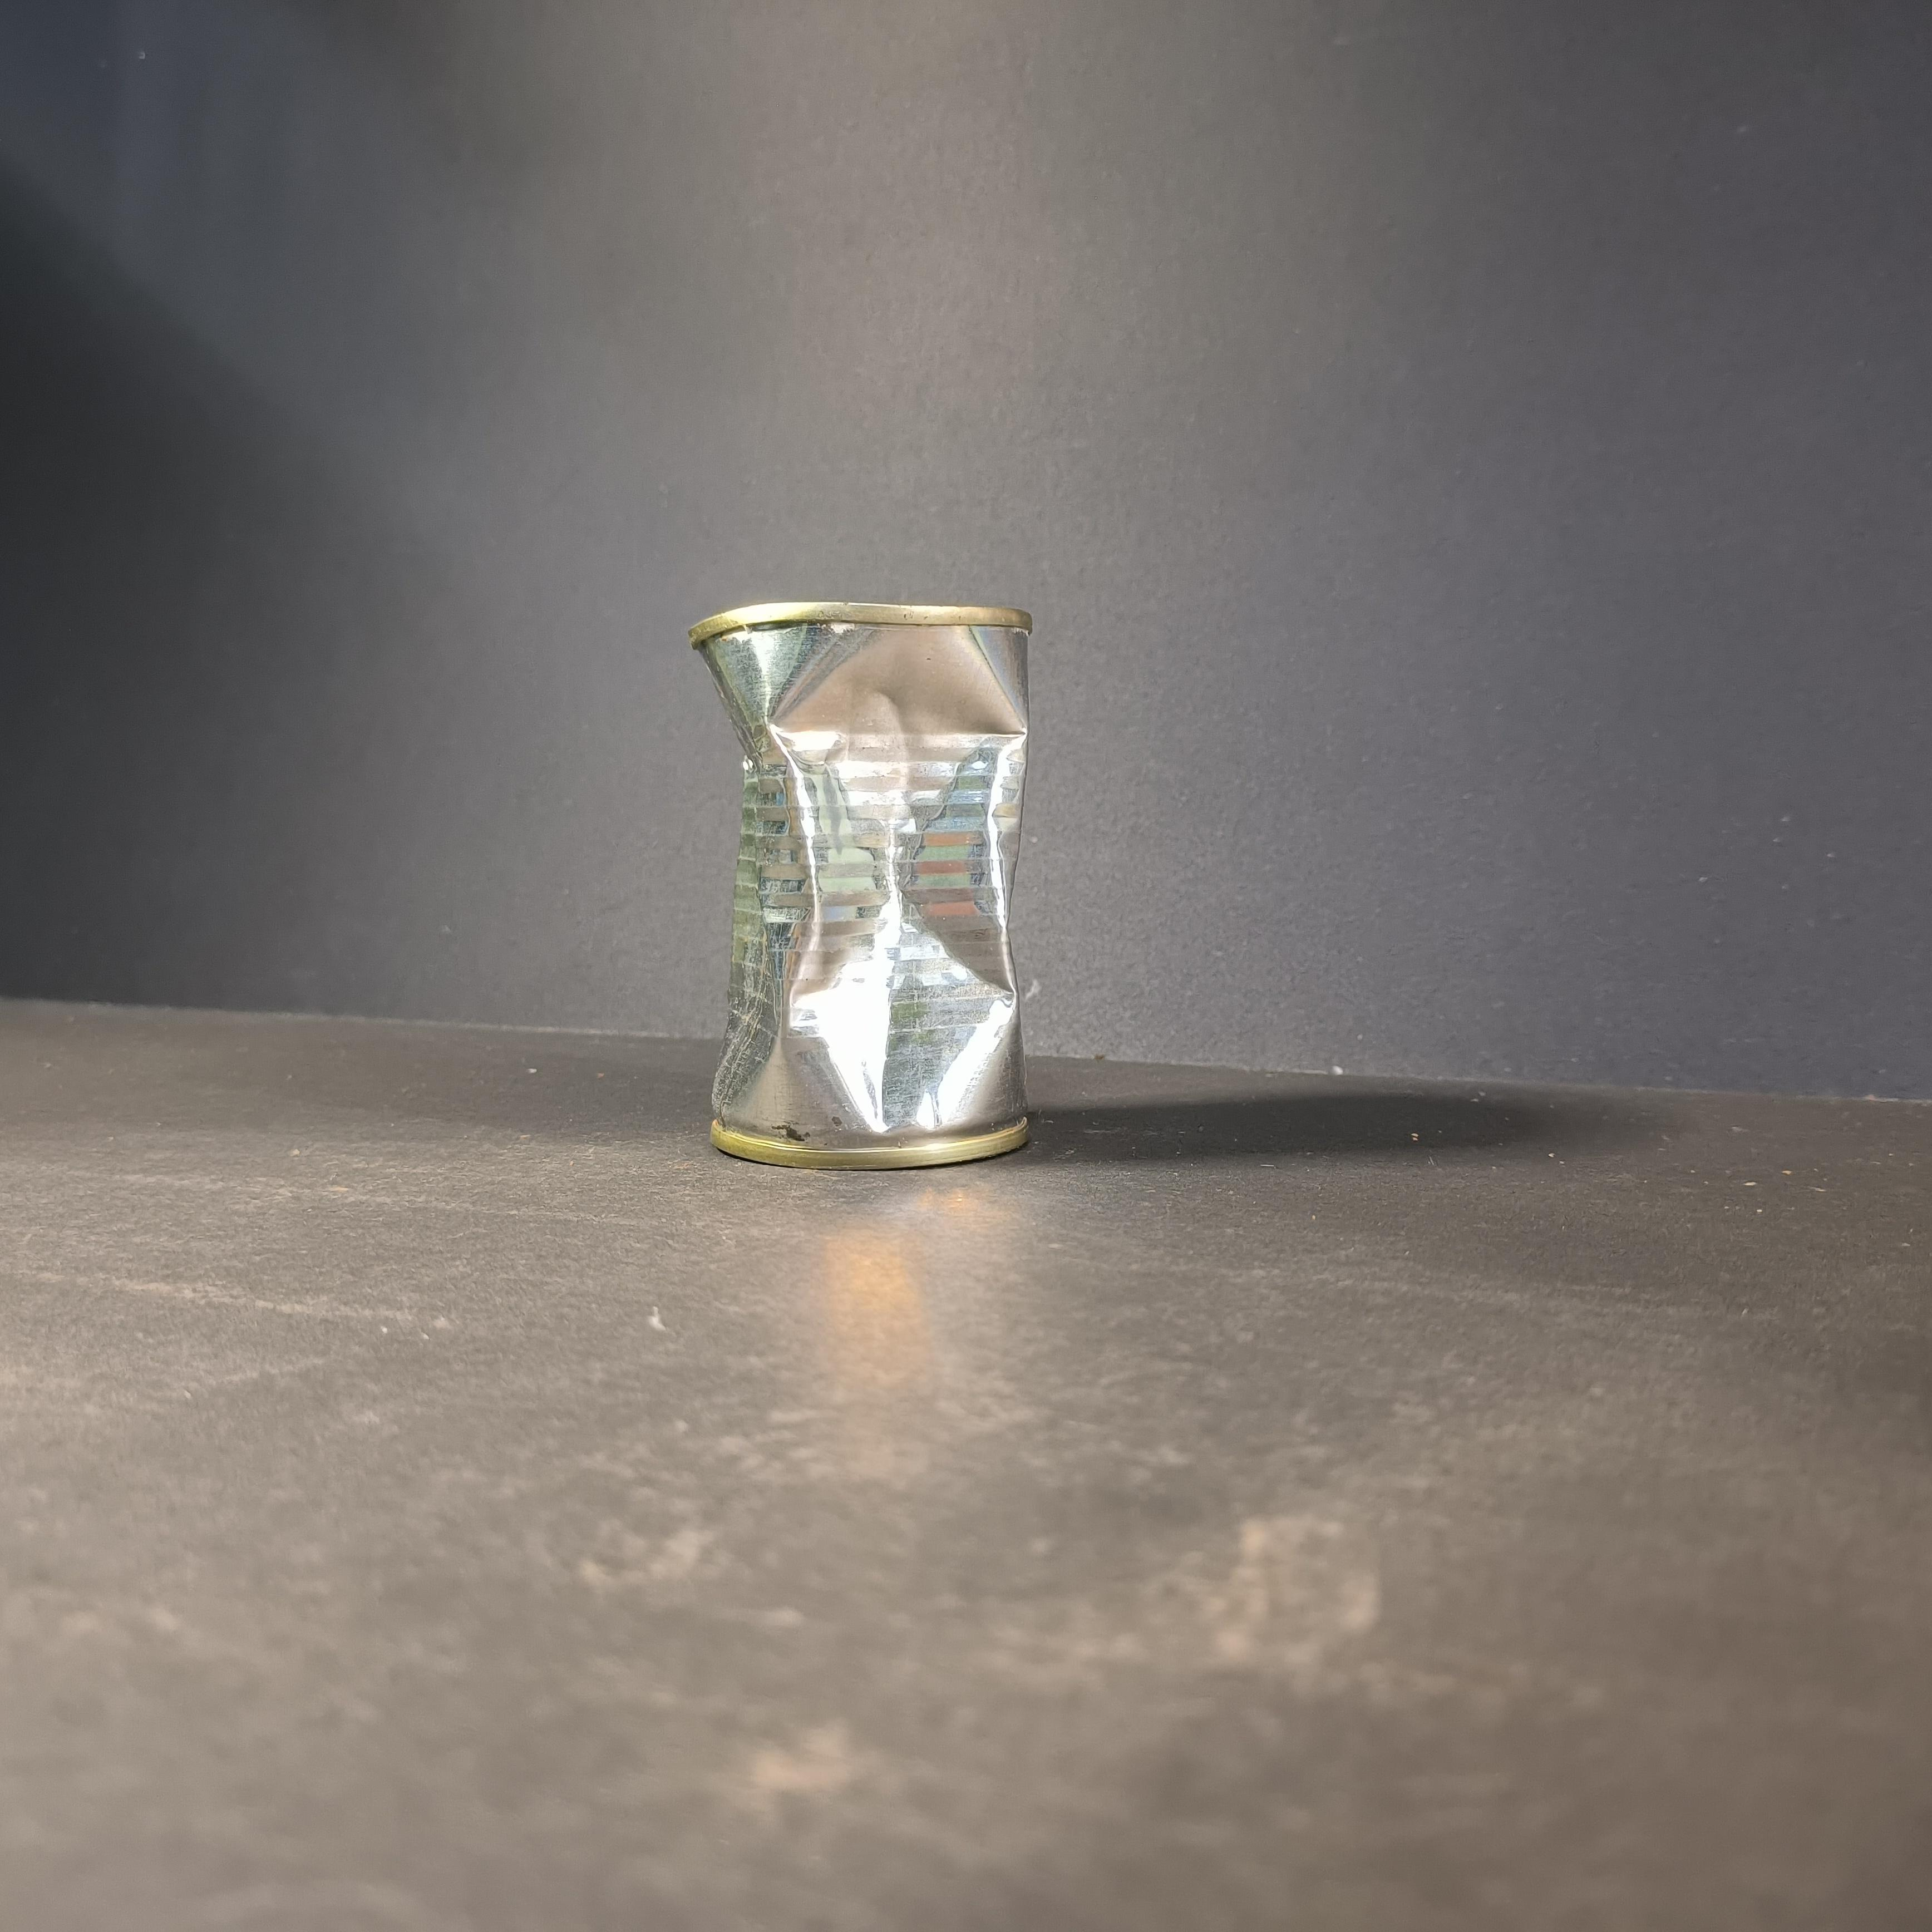Dented: (686, 577, 1070, 1182)
